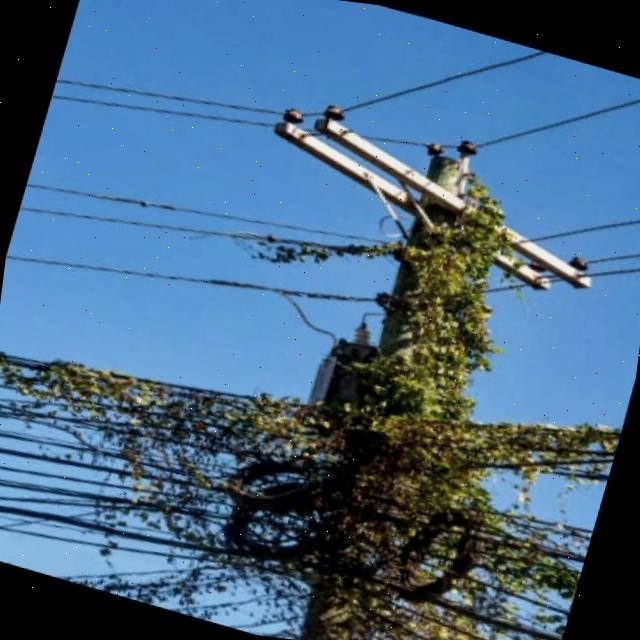critical vegetation: (141, 67, 640, 640)
